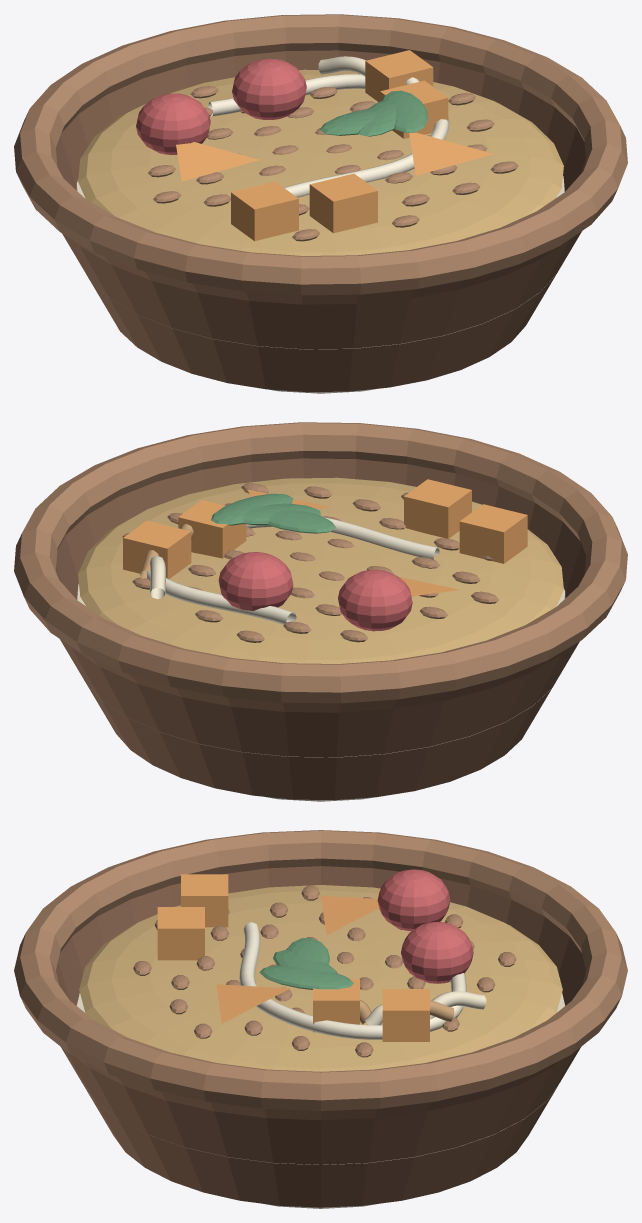
The model's file is coconut_millet.glb.
3 renders of one model, top to bottom at view 1: azimuth 30°, elevation 25°; view 2: azimuth 150°, elevation 25°; view 3: azimuth 270°, elevation 25°, orthographic.
Parts seen in each view (by area): view 1: coconut_fibrous_lip, coconut_shell_cup_hollow_profile, millet_pudding_surface, berry_piece_0, berry_piece_1, papaya_piece_1, papaya_piece_0, coconut_milk_spiral, papaya_piece_3, papaya_wedge_1, papaya_wedge_0, papaya_piece_2 (+5 smaller); view 2: coconut_shell_cup_hollow_profile, coconut_fibrous_lip, millet_pudding_surface, berry_piece_1, berry_piece_0, coconut_milk_spiral, papaya_piece_0, papaya_piece_1, papaya_piece_3, papaya_piece_2, mint_leaf_0, mint_leaf_2 (+4 smaller); view 3: coconut_fibrous_lip, coconut_shell_cup_hollow_profile, millet_pudding_surface, berry_piece_0, coconut_milk_spiral, berry_piece_1, papaya_piece_1, papaya_piece_3, papaya_piece_0, papaya_piece_2, mint_leaf_2, papaya_wedge_1 (+5 smaller).
Part boxes in pixels (x1,y1,x2,y2): coconut_fibrous_lip: (14, 14, 627, 295); coconut_shell_cup_hollow_profile: (56, 50, 585, 392); millet_pudding_surface: (78, 69, 563, 255); berry_piece_0: (232, 58, 306, 119); berry_piece_1: (136, 93, 210, 154); papaya_piece_1: (309, 173, 377, 233); papaya_piece_0: (231, 181, 298, 241); coconut_milk_spiral: (208, 74, 449, 197); papaya_piece_3: (365, 50, 433, 102); papaya_wedge_1: (409, 132, 493, 175); papaya_wedge_0: (176, 142, 259, 181); papaya_piece_2: (380, 80, 448, 138); coconut_shell_cup_hollow_profile: (56, 458, 585, 800); coconut_fibrous_lip: (14, 422, 627, 703); millet_pudding_surface: (78, 477, 563, 663); berry_piece_1: (338, 569, 412, 631); berry_piece_0: (218, 552, 293, 610); coconut_milk_spiral: (146, 517, 439, 624); papaya_piece_0: (459, 504, 527, 563); papaya_piece_1: (404, 479, 471, 538); papaya_piece_3: (123, 520, 191, 579); papaya_piece_2: (178, 500, 246, 558); mint_leaf_0: (268, 510, 335, 533); mint_leaf_2: (211, 493, 293, 525); coconut_fibrous_lip: (14, 830, 627, 1110); coconut_shell_cup_hollow_profile: (56, 866, 585, 1207); millet_pudding_surface: (79, 885, 562, 1071); berry_piece_0: (401, 921, 473, 983); coconut_milk_spiral: (239, 922, 466, 1039); berry_piece_1: (377, 869, 450, 931); papaya_piece_1: (157, 907, 204, 960); papaya_piece_3: (382, 989, 429, 1041); papaya_piece_0: (181, 874, 228, 927); papaya_piece_2: (313, 979, 359, 1032); mint_leaf_2: (259, 965, 353, 989); papaya_wedge_1: (216, 984, 290, 1023).
Bounding box in the file's own units: 0.792 × 0.309 × 0.792.
